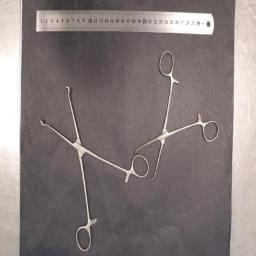Allis Tissue Forceps: (135, 50, 219, 182)
